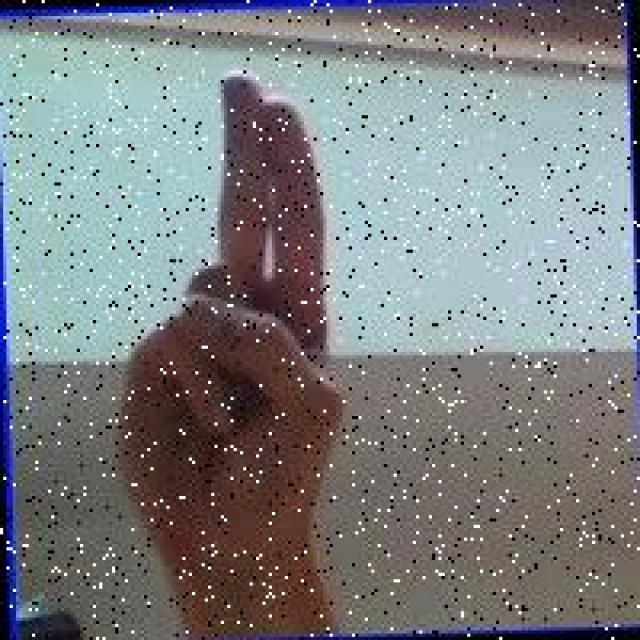U: (99, 59, 355, 568)
